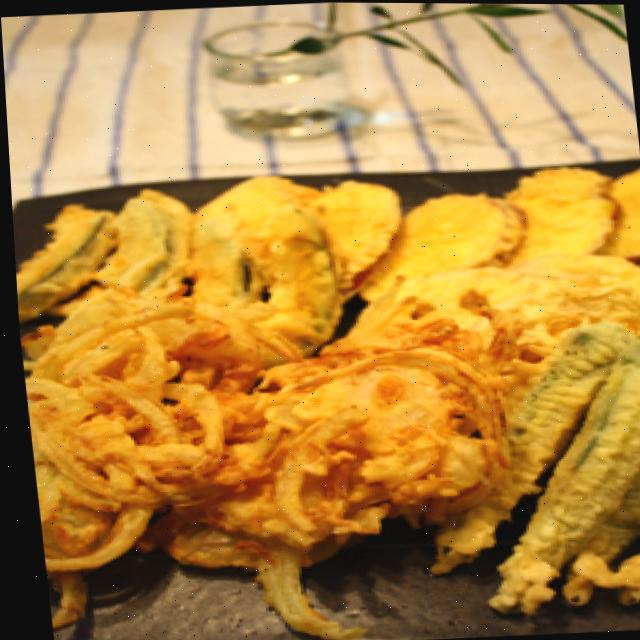蔬菜料理: (199, 200, 640, 640)
